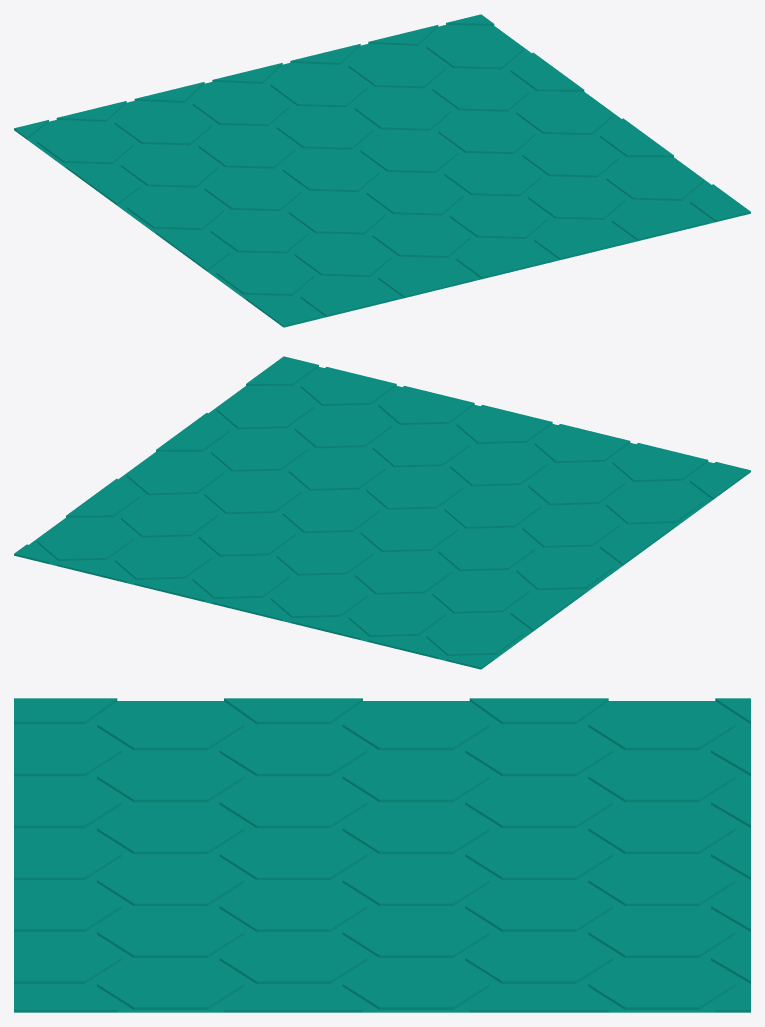
File: HexagonFloor.glb
The picture shows the model from 3 angles, top to bottom: view 1: azimuth 30°, elevation 25°; view 2: azimuth 150°, elevation 25°; view 3: azimuth 270°, elevation 25°; orthographic projection. The views are drawn at different scales.
Parts seen in each view (by area): view 1: hexagonFloorTile_large; view 2: hexagonFloorTile_large; view 3: hexagonFloorTile_large.
Boxes of the visible parts, box(x1,y1,x2,y2) form: hexagonFloorTile_large: box(14, 14, 750, 327); hexagonFloorTile_large: box(14, 356, 750, 669); hexagonFloorTile_large: box(14, 698, 750, 1012).
Size of what is drawn, in the model's own units: 4 by 0.0154 by 4.
1 material, 1 textured.
